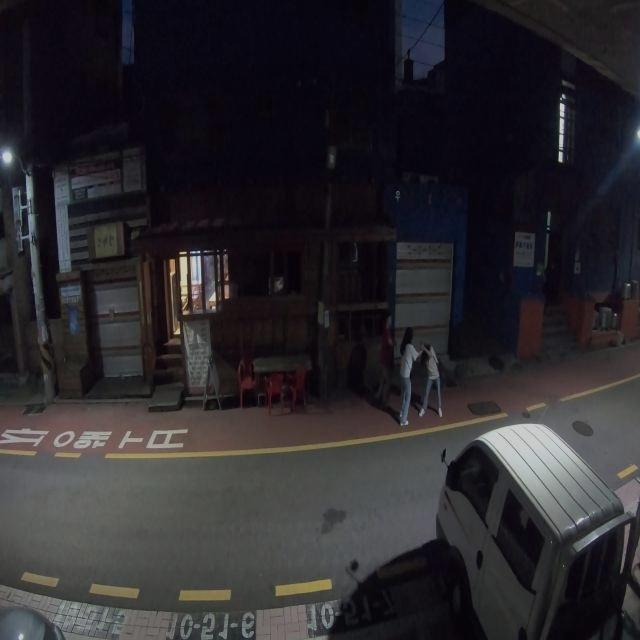fight: (393, 324, 444, 427)
